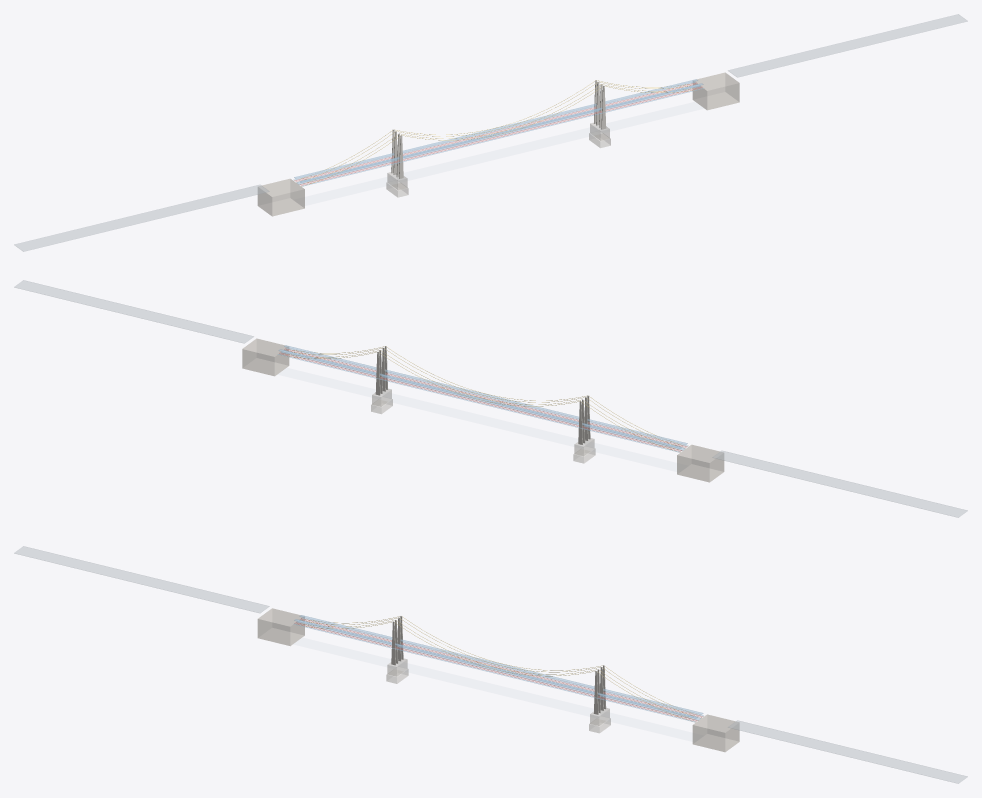
Rendered from bridge.lod0.glb.
The picture shows the model from 3 angles, top to bottom: view 1: azimuth 30°, elevation 25°; view 2: azimuth 150°, elevation 25°; view 3: azimuth 330°, elevation 25°; orthographic projection.
Visible parts, largest first — view 1: manhattan_approach, brooklyn_approach, manhattan_anchorage, brooklyn_anchorage, lower_roadway_envelope_main_span, footwalk_south, upper_roadway_manhattan_bound_main_span, upper_roadway_brooklyn_bound_main_span, footwalk_north; view 2: manhattan_approach, brooklyn_approach, manhattan_anchorage, brooklyn_anchorage, lower_roadway_envelope_main_span, footwalk_north, upper_roadway_manhattan_bound_main_span, footwalk_south; view 3: manhattan_approach, brooklyn_approach, brooklyn_anchorage, manhattan_anchorage, lower_roadway_envelope_main_span, footwalk_south, upper_roadway_manhattan_bound_main_span, upper_roadway_brooklyn_bound_main_span, footwalk_north.
Part boxes in pixels (x1,y1,x2,y2): manhattan_approach: [14, 184, 269, 251]; brooklyn_approach: [728, 14, 967, 77]; manhattan_anchorage: [257, 179, 304, 216]; brooklyn_anchorage: [692, 72, 739, 110]; lower_roadway_envelope_main_span: [403, 109, 599, 158]; footwalk_south: [302, 88, 703, 186]; upper_roadway_manhattan_bound_main_span: [402, 104, 596, 152]; upper_roadway_brooklyn_bound_main_span: [403, 107, 602, 157]; footwalk_north: [293, 82, 695, 180]; manhattan_approach: [712, 450, 967, 517]; brooklyn_approach: [14, 280, 253, 343]; manhattan_anchorage: [677, 445, 724, 482]; brooklyn_anchorage: [242, 338, 289, 376]; lower_roadway_envelope_main_span: [382, 375, 578, 424]; footwalk_north: [278, 354, 679, 452]; upper_roadway_manhattan_bound_main_span: [379, 373, 578, 423]; footwalk_south: [286, 348, 688, 446]; manhattan_approach: [14, 546, 269, 613]; brooklyn_approach: [728, 720, 967, 783]; brooklyn_anchorage: [692, 714, 739, 751]; manhattan_anchorage: [257, 608, 304, 645]; lower_roadway_envelope_main_span: [397, 645, 594, 694]; footwalk_south: [293, 624, 695, 722]; upper_roadway_manhattan_bound_main_span: [400, 639, 594, 688]; upper_roadway_brooklyn_bound_main_span: [395, 643, 594, 693]; footwalk_north: [302, 617, 703, 716].
Size of the model in its own units: 2089 by 127 by 55.47.
